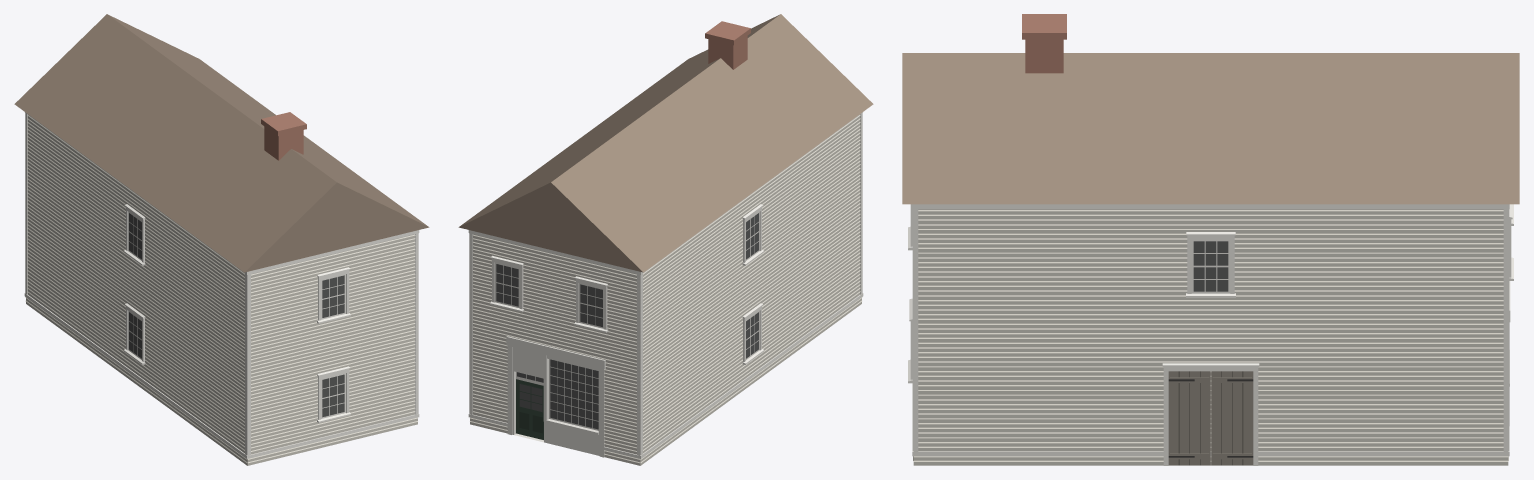
Rendered from recon_1835_core_c3_006__inferred_1835.glb.
The picture shows the model from 3 angles, left to right: view 1: azimuth 30°, elevation 25°; view 2: azimuth 150°, elevation 25°; view 3: azimuth 270°, elevation 25°; orthographic projection. The views are drawn at different scales.
Visible parts, largest first — view 1: recon_1835_core_c3_006__inferred_1835; view 2: recon_1835_core_c3_006__inferred_1835; view 3: recon_1835_core_c3_006__inferred_1835.
Part boxes in pixels (bbox=[...]): recon_1835_core_c3_006__inferred_1835: bbox=[14, 14, 429, 465]; recon_1835_core_c3_006__inferred_1835: bbox=[458, 14, 873, 465]; recon_1835_core_c3_006__inferred_1835: bbox=[902, 14, 1519, 465].
Size of the model in its own units: 6.26 by 9.3 by 13.47.
